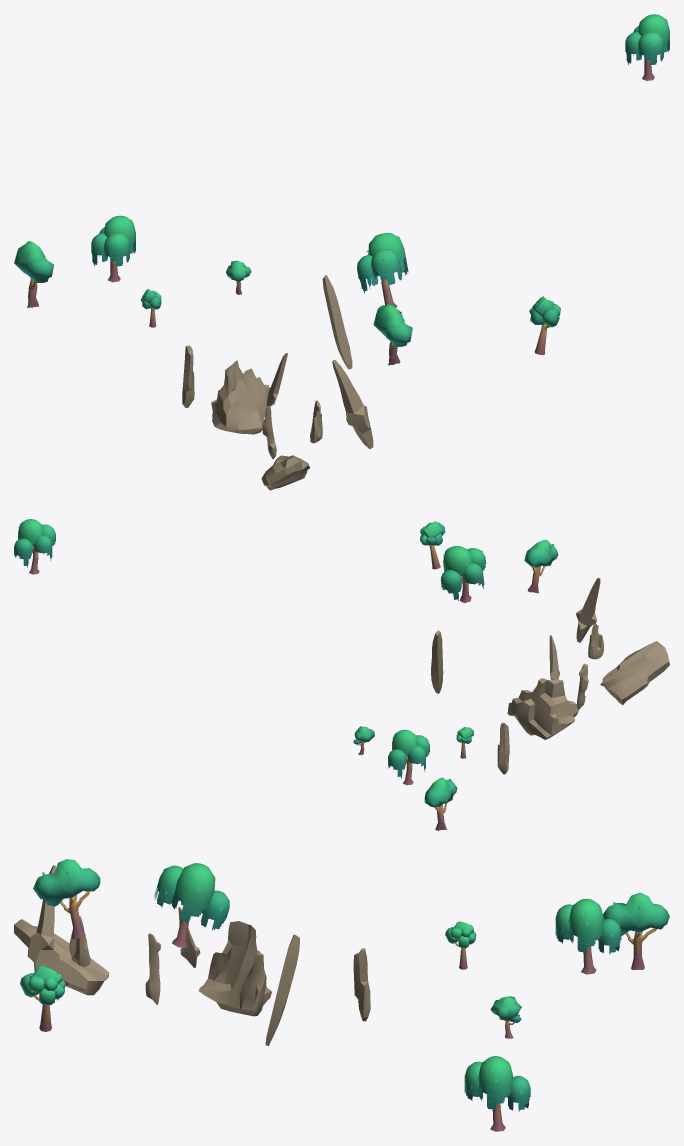
File: Isle_test.glb
The picture shows the model from 3 angles, top to bottom: view 1: azimuth 30°, elevation 25°; view 2: azimuth 150°, elevation 25°; view 3: azimuth 270°, elevation 25°; orthographic projection. The views are drawn at different scales.
Visible parts, largest first — view 1: Willow_Tree_Material #22_0.002; view 2: Willow_Tree_Material #22_0.002; view 3: Willow_Tree_Material #22_0.002.
Part boxes in pixels (x1,y1,x2,y2): Willow_Tree_Material #22_0.002: (14,14,669,490); Willow_Tree_Material #22_0.002: (14,519,669,830); Willow_Tree_Material #22_0.002: (14,859,669,1131).
Bounding box in the file's own units: 161 × 57.33 × 129.
Materials: 2 (1 with a texture image).
